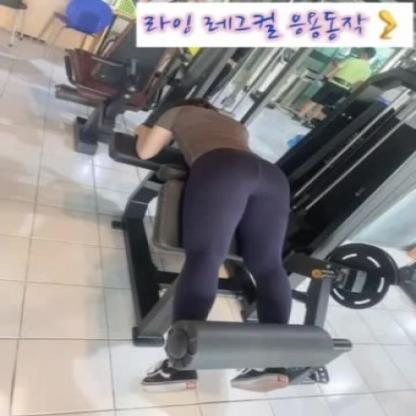reg curl machine: (105, 66, 416, 416)
